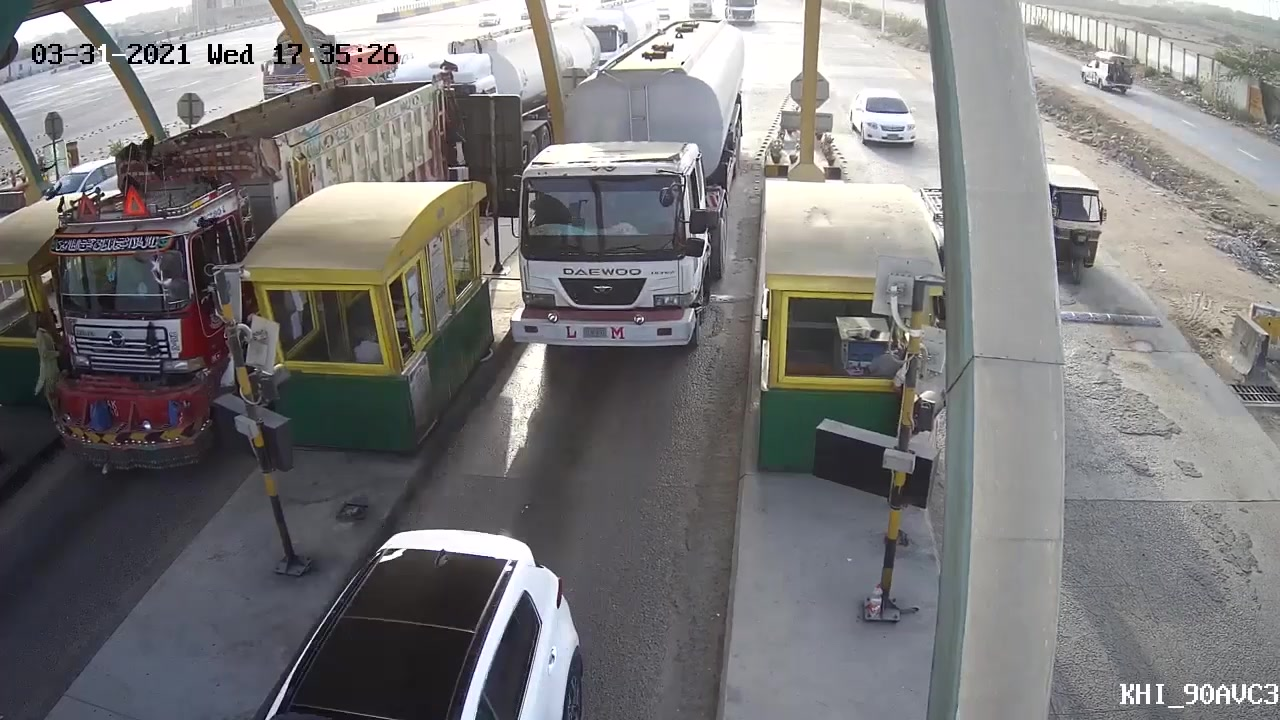F6: (504, 18, 750, 358)
